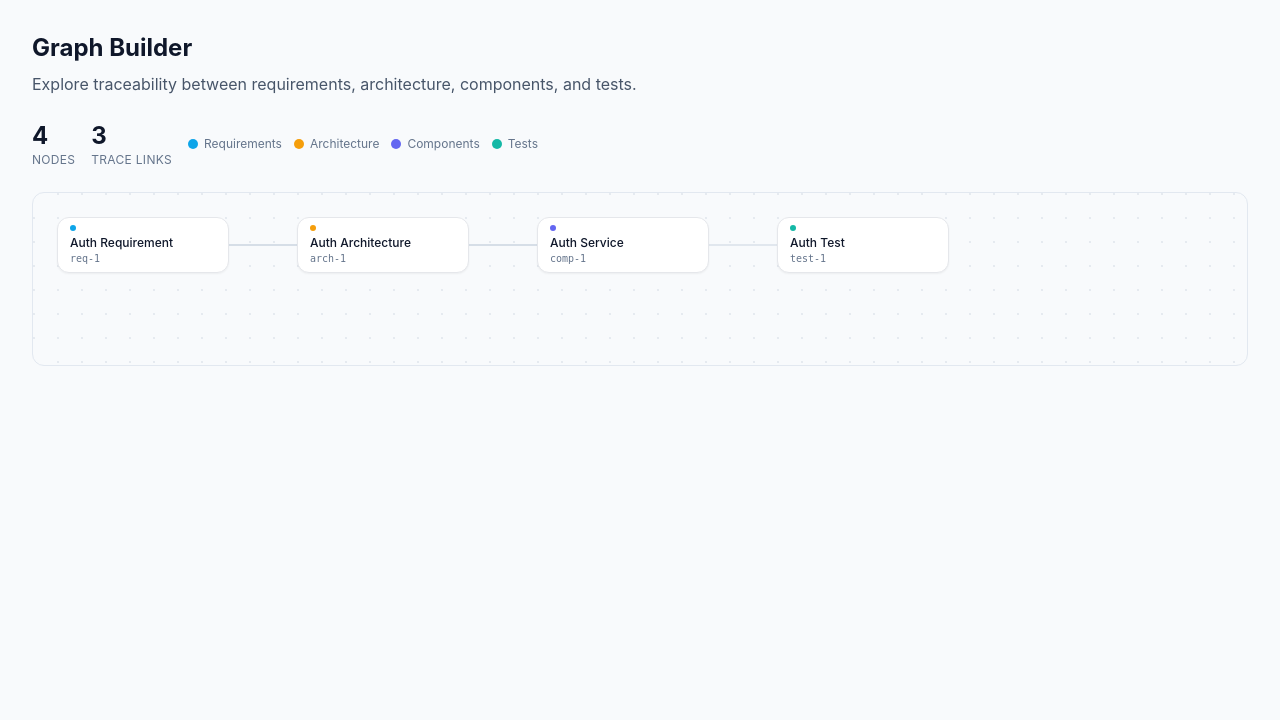
Test case: GraphBuilder › selects a node on click and shows its trace links
Click the button with aria-label "Auth Requirement — Requirements" at (143, 245), box [57,217,229,273]
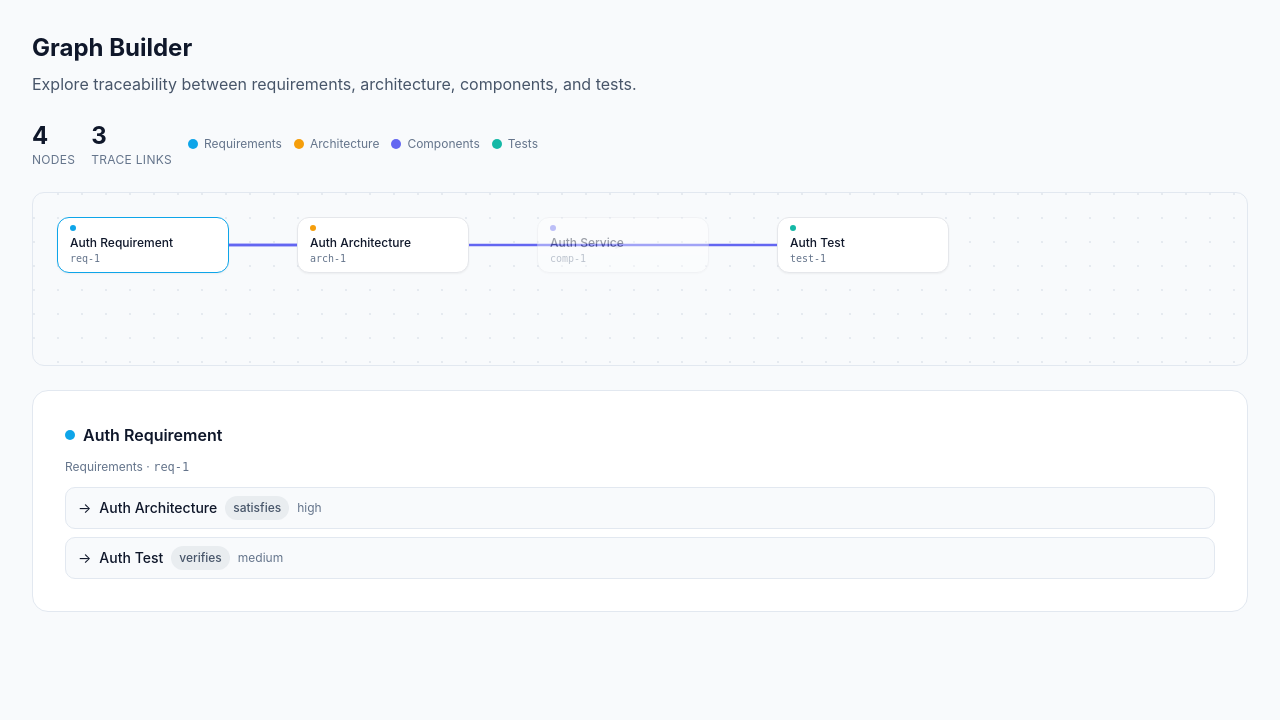
Expected: the text "satisfies" is shown, [225,496,289,520]
Expected: the text "verifies" is shown, [171,546,230,570]
